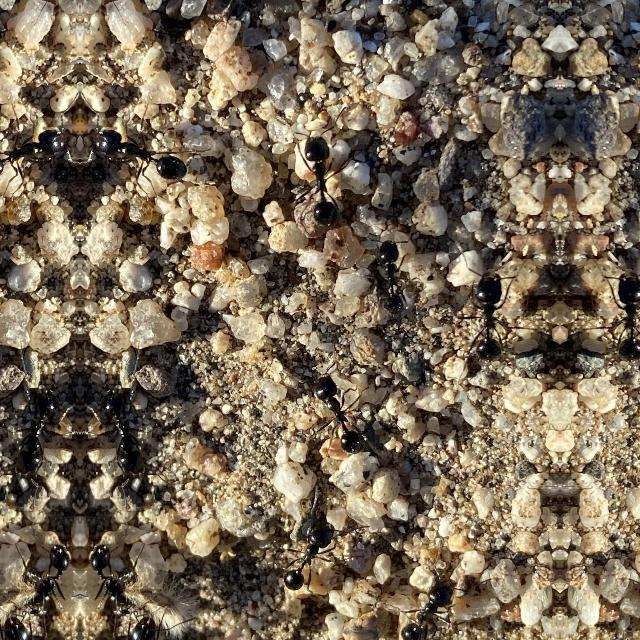Messor: (284, 124, 361, 236), (90, 380, 156, 502), (4, 380, 70, 502), (86, 118, 206, 184), (305, 366, 377, 460), (274, 514, 348, 594), (0, 117, 74, 184), (459, 264, 509, 362), (398, 571, 458, 639), (367, 230, 409, 314), (88, 546, 138, 612), (22, 546, 72, 612), (611, 264, 640, 361), (116, 600, 186, 640), (0, 600, 43, 640)
